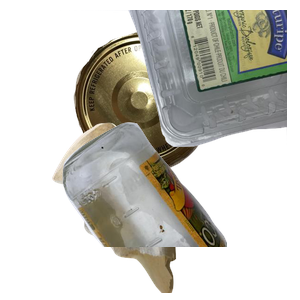glass: (60, 120, 300, 300)
metal: (71, 29, 276, 193)
plastic: (60, 10, 300, 149)
trash: (50, 120, 219, 300)
